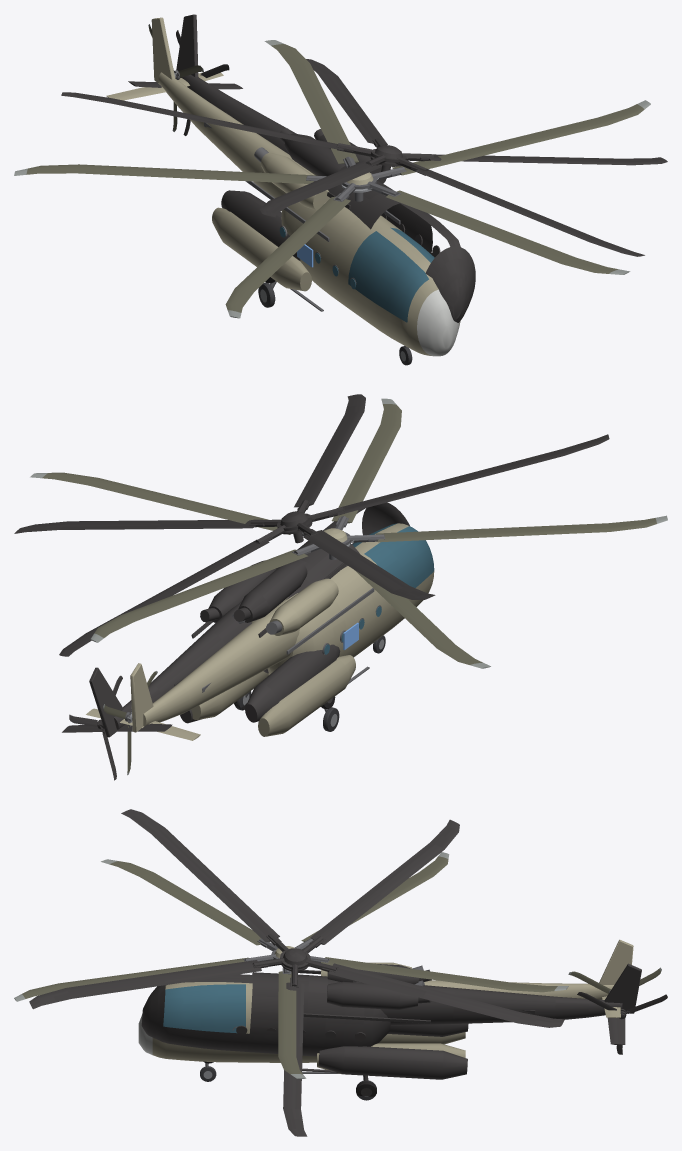
The model's file is helicopter__mi_8.glb.
3 renders of one model, top to bottom at view 1: azimuth 30°, elevation 25°; view 2: azimuth 150°, elevation 25°; view 3: azimuth 270°, elevation 25°, orthographic. The views are drawn at different scales.
Parts seen in each view (by area): view 1: Fuselage_Mesh, Wreck, Rotor_Main_Mesh, Engines_Mesh, Landing_Gear_Mesh; view 2: Wreck, Fuselage_Mesh, Rotor_Main_Mesh, Engines_Mesh, Landing_Gear_Mesh; view 3: Wreck, Fuselage_Mesh, Rotor_Main_Mesh.
Boxes of the visible parts, <box> form: Fuselage_Mesh: <box>106,17,460,356</box>; Wreck: <box>61,14,667,322</box>; Rotor_Main_Mesh: <box>14,40,650,318</box>; Engines_Mesh: <box>254,147,330,210</box>; Landing_Gear_Mesh: <box>258,281,412,365</box>; Wreck: <box>14,394,609,780</box>; Fuselage_Mesh: <box>86,523,434,740</box>; Rotor_Main_Mesh: <box>30,398,667,668</box>; Engines_Mesh: <box>232,578,338,635</box>; Landing_Gear_Mesh: <box>235,635,385,731</box>; Wreck: <box>29,809,667,1136</box>; Fuselage_Mesh: <box>138,939,633,1074</box>; Rotor_Main_Mesh: <box>14,852,568,1078</box>.
Size of what is drawn, in the model's own units: 20.24 by 7.88 by 23.99.
